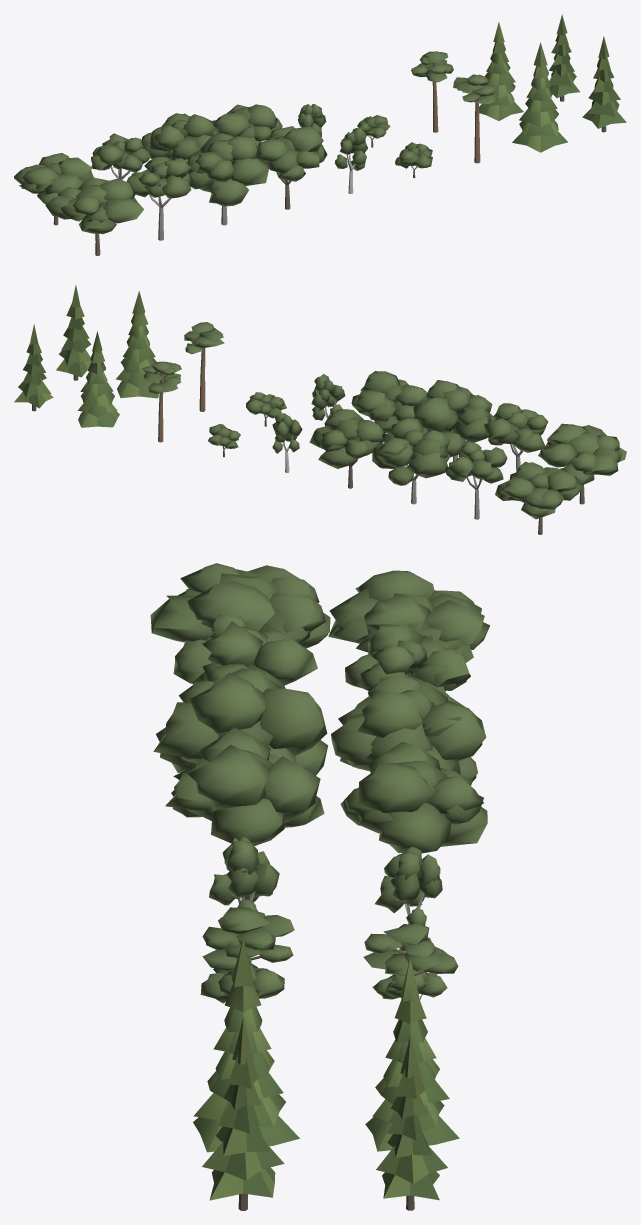
Rendered from trees.glb.
3 renders of one model, top to bottom at view 1: azimuth 30°, elevation 25°; view 2: azimuth 150°, elevation 25°; view 3: azimuth 270°, elevation 25°, orthographic. The views are drawn at different scales.
Visible parts, largest first — view 1: Foliage.070 (game), Foliage.073 (game), Foliage.022 (game), Foliage.093 (game), Foliage.081 (game), Tier.008 (game), Foliage.067 (game), Foliage.006 (game), Foliage.019 (game), Foliage.080 (game), Foliage.094 (game), Foliage.054 (game) (+22 smaller); view 2: Foliage.069 (game), Foliage.058 (game), Foliage.053 (game), Foliage.071 (game), Foliage.093 (game), Foliage.021 (game), Foliage.006 (game), Foliage.019 (game), Foliage.007 (game), Tier (game), Foliage.095 (game), Foliage.081 (game) (+27 smaller); view 3: Foliage.093 (game), Foliage.069 (game), Foliage.067 (game), Foliage.080 (game), Foliage.019 (game), Foliage.085 (game), Foliage.053 (game), Foliage.098 (game), Foliage.095 (game), Foliage.070 (game), Foliage.054 (game), Foliage.045 (game) (+28 smaller).
Part boxes in pixels (bbox=[...]): Foliage.070 (game): bbox=[231, 158, 268, 185]; Foliage.073 (game): bbox=[209, 178, 248, 206]; Foliage.022 (game): bbox=[103, 199, 143, 223]; Foliage.093 (game): bbox=[283, 126, 323, 152]; Foliage.081 (game): bbox=[213, 112, 250, 136]; Tier.008 (game): bbox=[512, 131, 567, 152]; Foliage.067 (game): bbox=[228, 136, 260, 160]; Foliage.006 (game): bbox=[22, 167, 59, 191]; Foliage.019 (game): bbox=[100, 179, 135, 200]; Foliage.080 (game): bbox=[247, 104, 277, 128]; Foliage.094 (game): bbox=[256, 139, 287, 162]; Foliage.054 (game): bbox=[183, 114, 214, 137]; Foliage.069 (game): bbox=[413, 397, 456, 430]; Foliage.058 (game): bbox=[407, 452, 447, 478]; Foliage.053 (game): bbox=[377, 437, 413, 467]; Foliage.071 (game): bbox=[451, 413, 492, 442]; Foliage.093 (game): bbox=[360, 371, 400, 392]; Foliage.021 (game): bbox=[540, 443, 577, 465]; Foliage.006 (game): bbox=[547, 471, 581, 492]; Foliage.019 (game): bbox=[547, 423, 588, 444]; Foliage.007 (game): bbox=[501, 476, 534, 500]; Tier (game): bbox=[78, 411, 119, 427]; Foliage.095 (game): bbox=[353, 390, 387, 413]; Foliage.081 (game): bbox=[355, 419, 385, 442]; Foliage.093 (game): bbox=[187, 744, 270, 810]; Foliage.069 (game): bbox=[259, 688, 327, 755]; Foliage.067 (game): bbox=[190, 672, 265, 734]; Foliage.080 (game): bbox=[358, 763, 432, 813]; Foliage.019 (game): bbox=[187, 580, 274, 630]; Foliage.085 (game): bbox=[376, 803, 451, 853]; Foliage.053 (game): bbox=[422, 702, 486, 761]; Foliage.098 (game): bbox=[211, 798, 284, 845]; Foliage.095 (game): bbox=[264, 756, 320, 814]; Foliage.070 (game): bbox=[153, 702, 218, 763]; Foliage.054 (game): bbox=[357, 693, 425, 737]; Foliage.045 (game): bbox=[254, 639, 317, 684].
Bounding box in the file's own units: 125 × 22.19 × 32.56.
